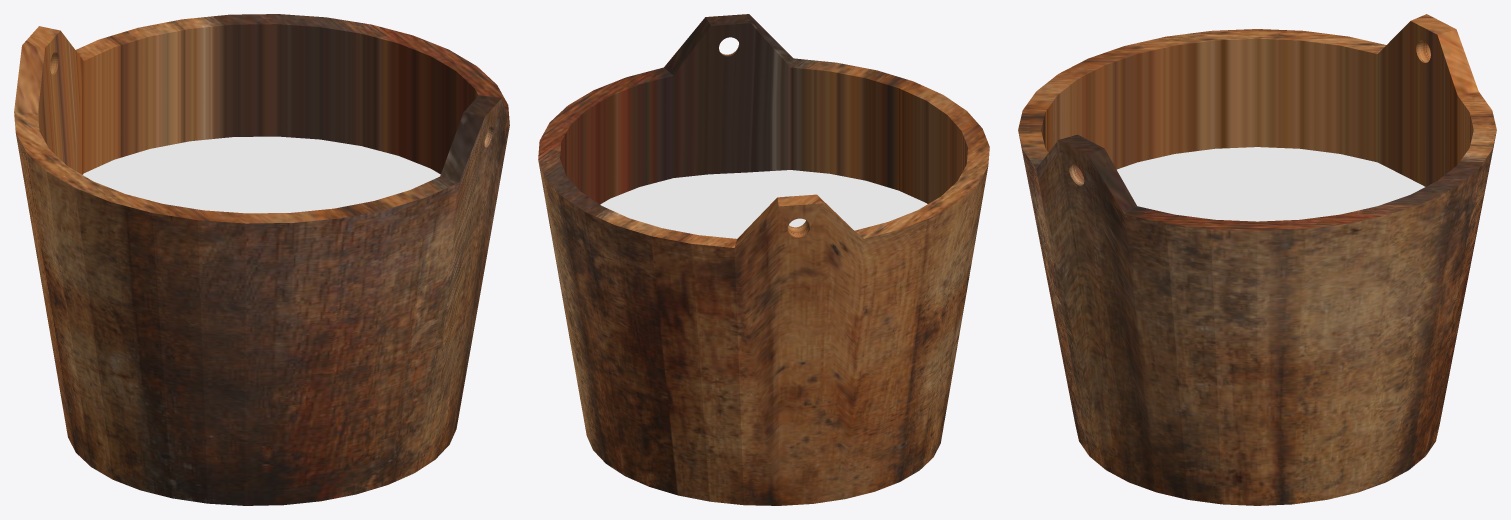
Rendered from Balde.glb.
The picture shows the model from 3 angles, left to right: view 1: azimuth 30°, elevation 25°; view 2: azimuth 150°, elevation 25°; view 3: azimuth 270°, elevation 25°; orthographic projection. The views are drawn at different scales.
Visible parts, largest first — view 1: Cylinder; view 2: Cylinder; view 3: Cylinder.
Boxes of the visible parts, left/top/right/bottom form: Cylinder: left=14, top=14, right=509, bottom=505; Cylinder: left=538, top=14, right=989, bottom=505; Cylinder: left=1018, top=14, right=1496, bottom=505.
Bounding box in the file's own units: 2 × 1.58 × 2.
Materials: 2 (1 with a texture image).
